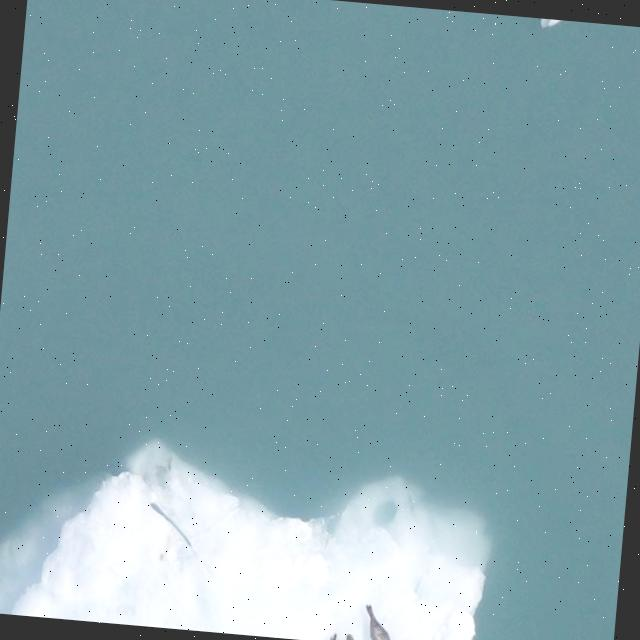seal: (366, 604, 392, 640), (340, 632, 356, 640)
